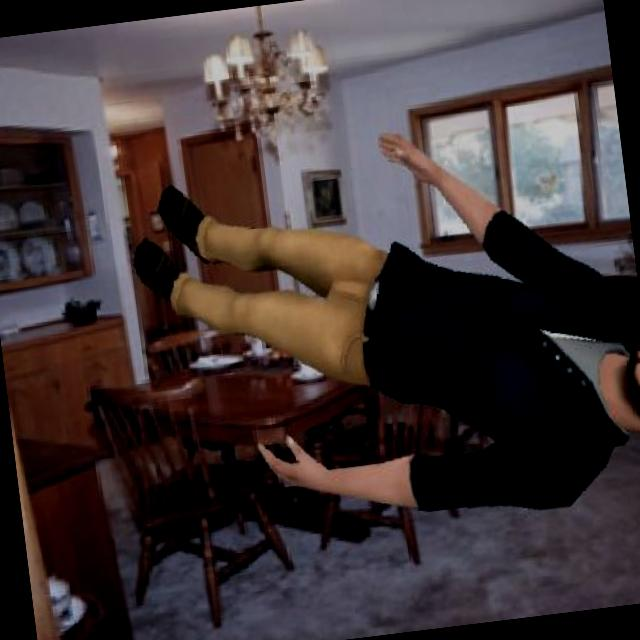Person: (119, 99, 640, 558)
